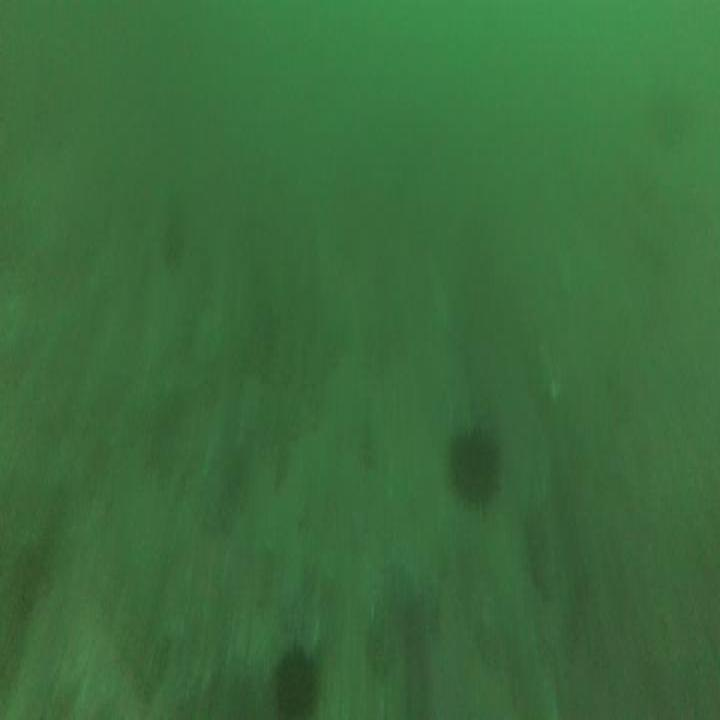echinus: (440, 413, 512, 519), (269, 629, 320, 720)
